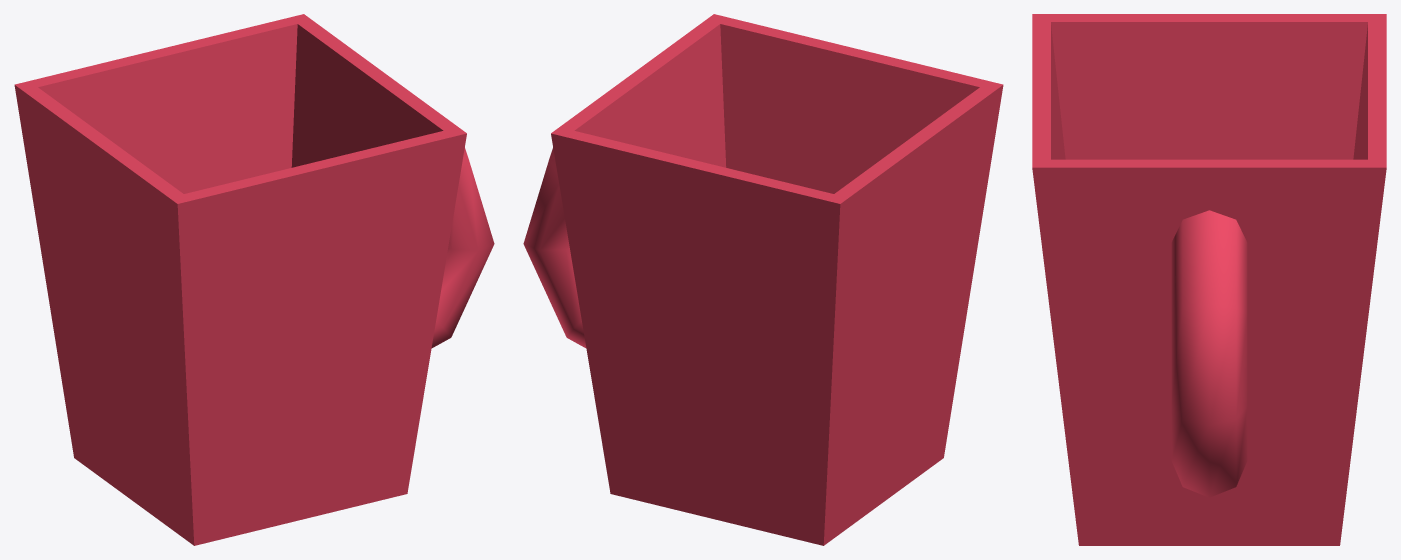
File: Itr_Obj_Cup1_01.FBX
The picture shows the model from 3 angles, left to right: view 1: azimuth 30°, elevation 25°; view 2: azimuth 150°, elevation 25°; view 3: azimuth 270°, elevation 25°; orthographic projection. The views are drawn at different scales.
Parts seen in each view (by area): view 1: Itr_Obj_Cup1_01; view 2: Itr_Obj_Cup1_01; view 3: Itr_Obj_Cup1_01.
Boxes of the visible parts, bbox=[...] form: Itr_Obj_Cup1_01: bbox=[14, 14, 494, 545]; Itr_Obj_Cup1_01: bbox=[523, 14, 1003, 545]; Itr_Obj_Cup1_01: bbox=[1032, 14, 1386, 545].
Size of the model in its own units: 6.33 by 5.62 by 4.53.
